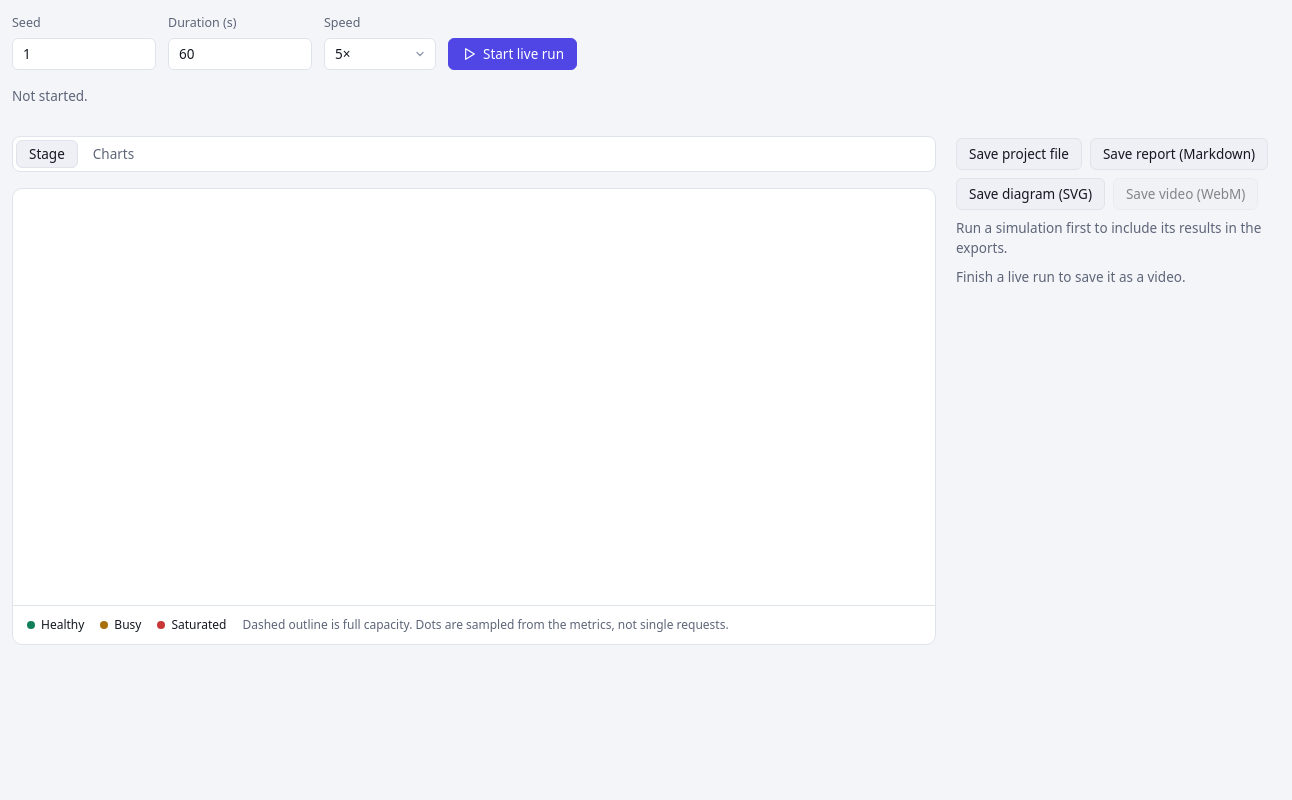
LivePanel › stops the run when the panel is closed
Click the button "Start live run": (512, 54) 448,38 -> 577,70
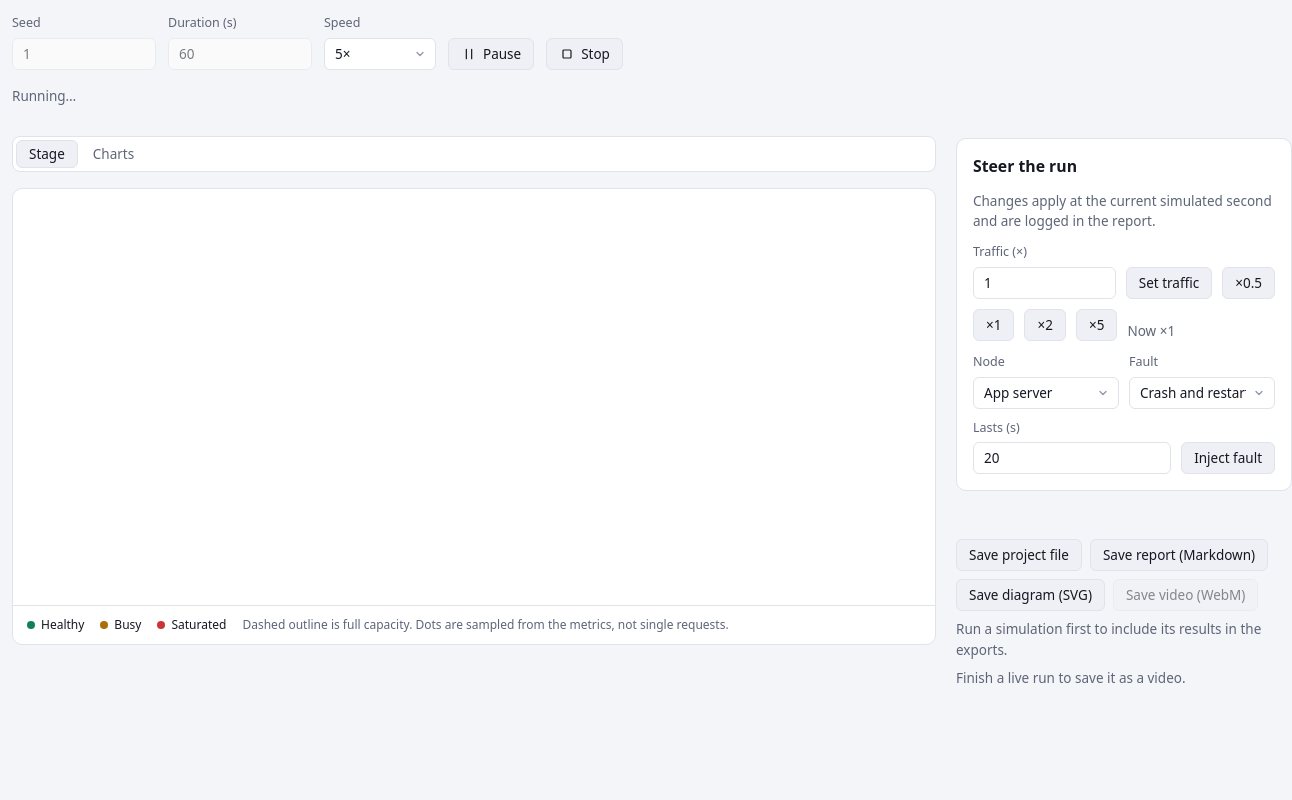
Result: the button "Stop" is shown at 546,38 -> 623,70
